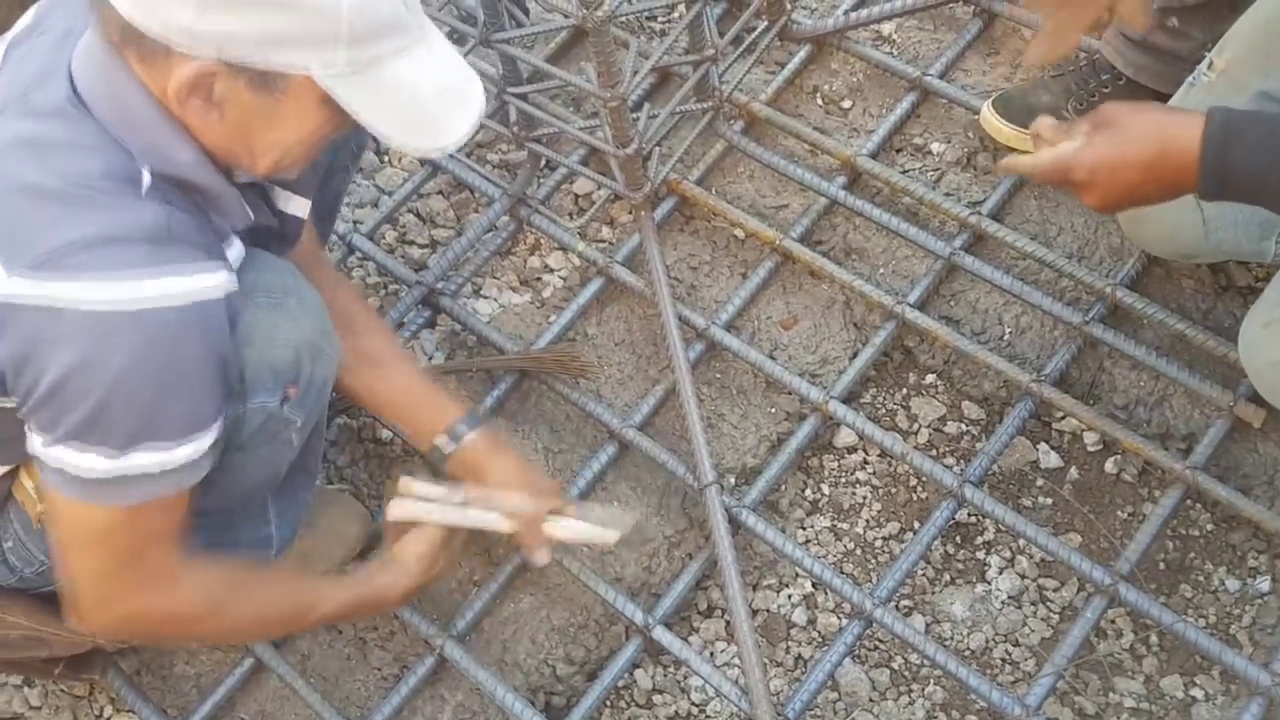helmet-off: (86, 0, 488, 231)
person: (0, 0, 593, 662), (979, 3, 1280, 421)
